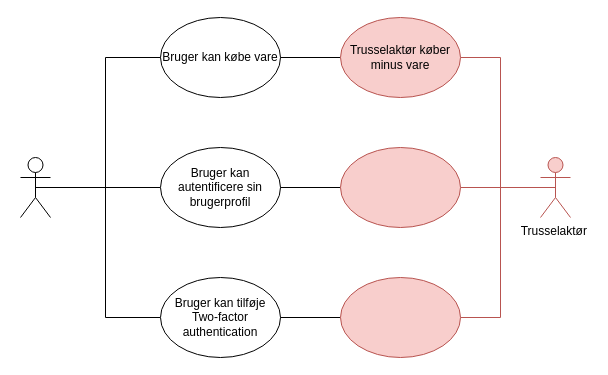
This 608x375 diagram has some shape labels left out. The shapes that lost their labels are listed below. From the top down, each one's centre as x and y in pixels, then its label:
the point at 35,187: Bruger
the point at 400,187: Trusselsaktør autentificere sig som en anden bruger
the point at 400,317: Trusselsaktør forbinder 2fa for en andens bruger til sin egen mobil
